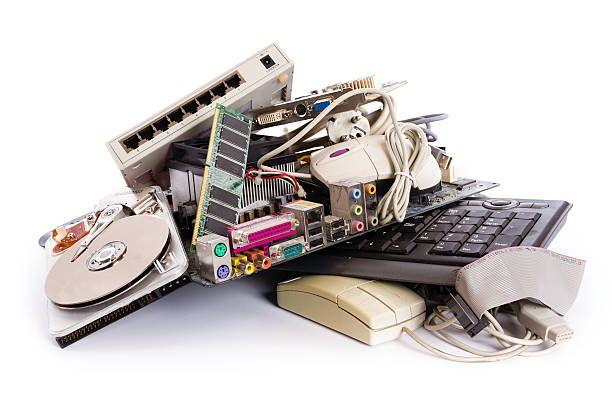electronic: (43, 150, 543, 346), (102, 38, 297, 184), (38, 179, 194, 352), (309, 133, 442, 220), (168, 129, 298, 217), (248, 76, 387, 129), (166, 157, 210, 218)
